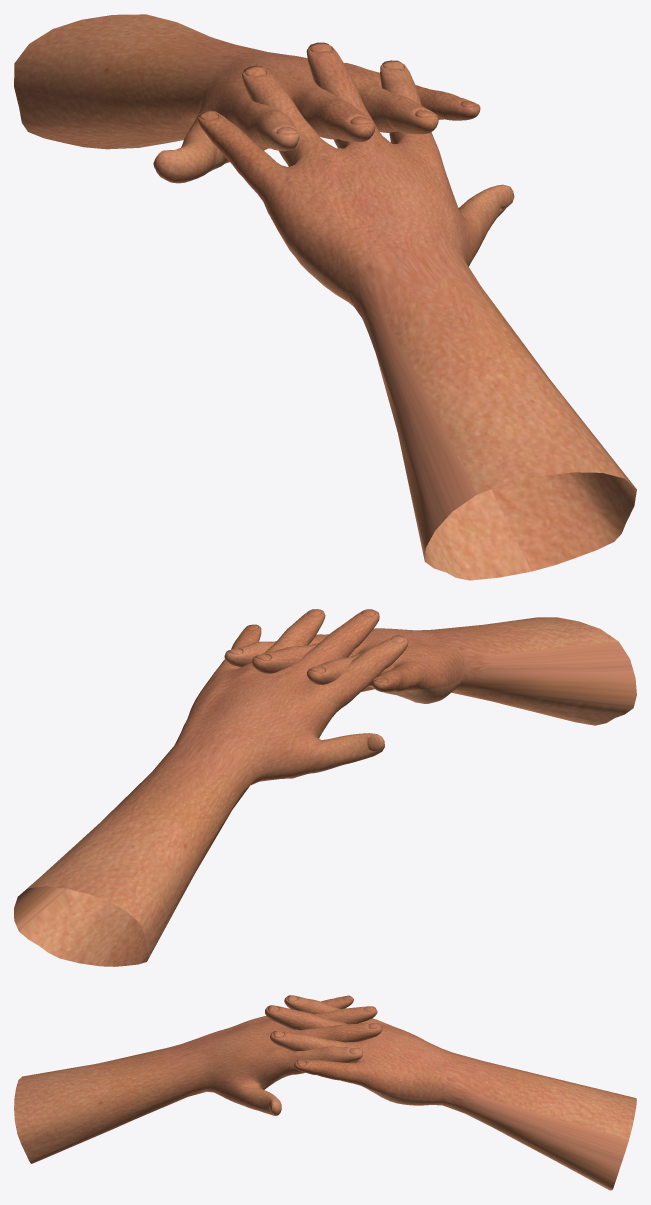
File: hands_000118.obj
3 views of the same model, one above another, from view 1: azimuth 30°, elevation 25°; view 2: azimuth 150°, elevation 25°; view 3: azimuth 270°, elevation 25° (orthographic). The views are drawn at different scales.
Visible parts, largest first — view 1: hand.001_Mesh.001, hand_Mesh; view 2: hand_Mesh, hand.001_Mesh.001; view 3: hand_Mesh, hand.001_Mesh.001.
Part boxes in pixels (x1,y1,x2,y2): hand.001_Mesh.001: (197, 42, 636, 580); hand_Mesh: (14, 14, 480, 183); hand_Mesh: (14, 609, 408, 966); hand.001_Mesh.001: (224, 617, 636, 725); hand_Mesh: (265, 995, 636, 1190); hand.001_Mesh.001: (14, 995, 382, 1163).
Size of the model in its own units: 1.67 by 1.43 by 5.11.
Materials: 1 (1 with a texture image).
